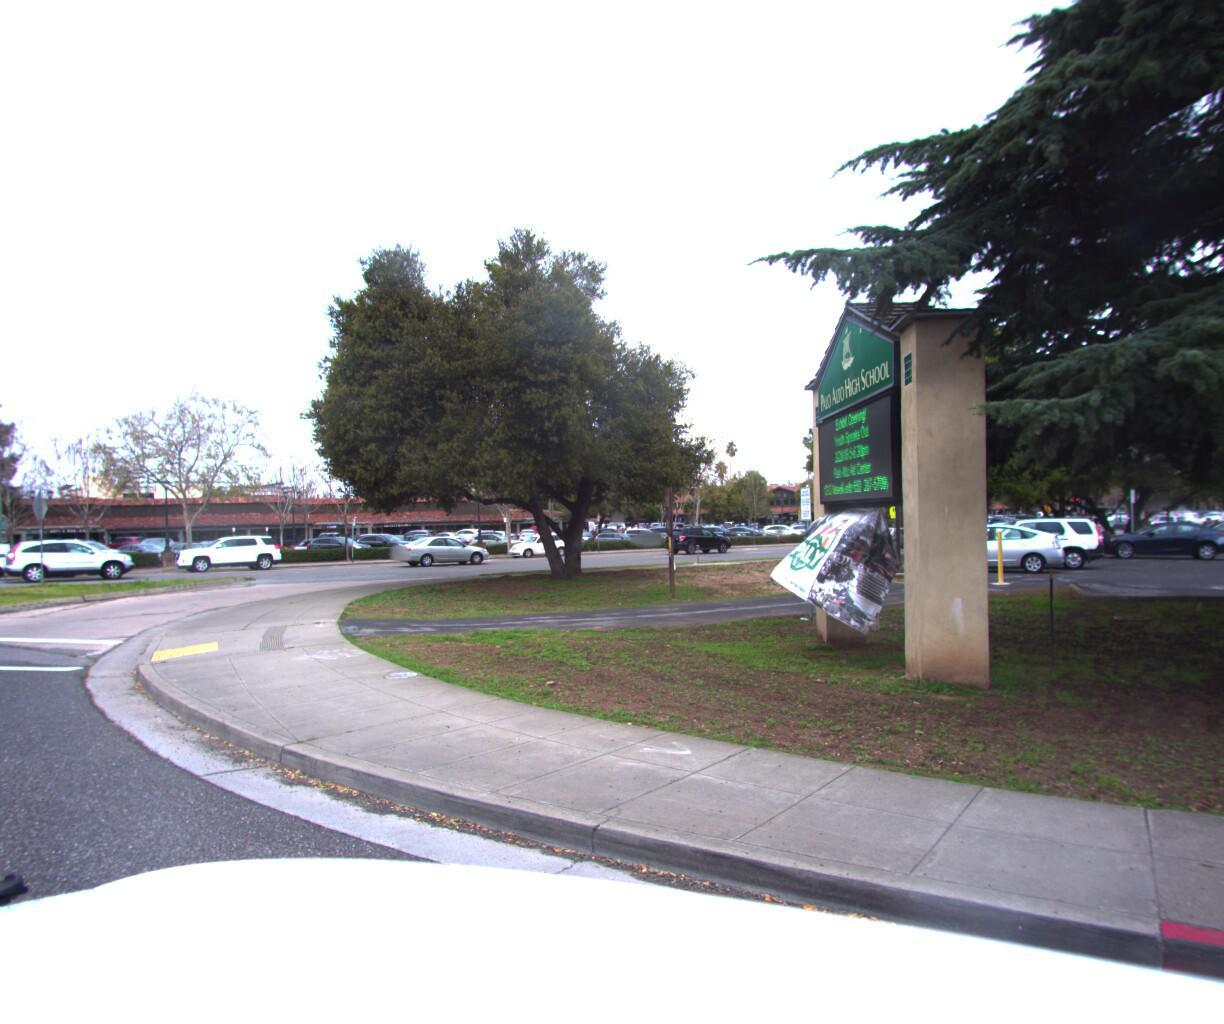car: (9, 535, 143, 585), (172, 530, 287, 573), (391, 534, 492, 567), (662, 523, 739, 554), (306, 529, 379, 557), (508, 530, 575, 557), (863, 526, 926, 549), (466, 529, 530, 551), (1051, 510, 1107, 536)
